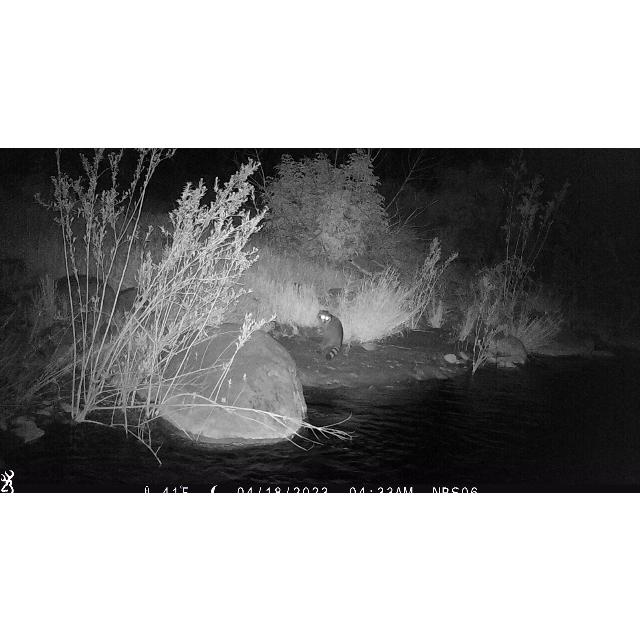animals: (312, 309, 343, 361)
